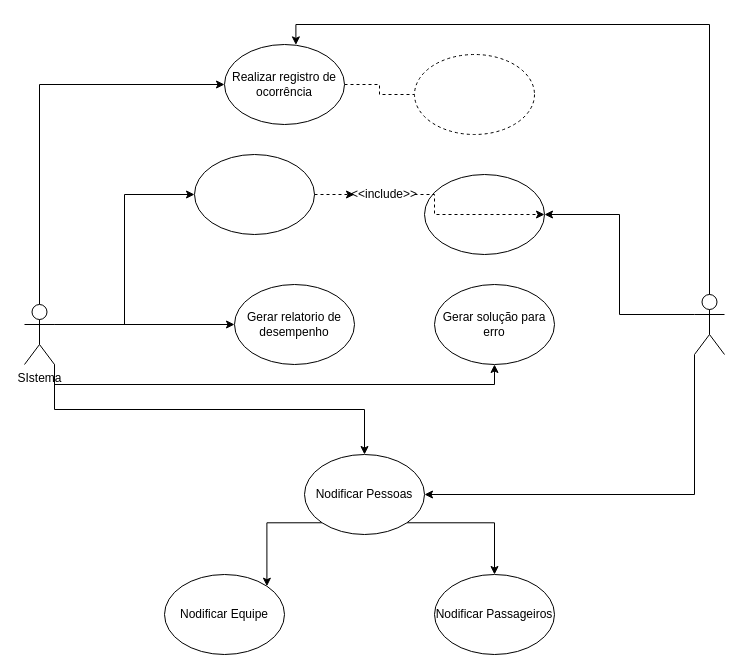
The diagram is 747 pixels wide and 672 high, and some of its shapes have lost their labels. The shapes that lost their labels are listed below. From the top down, each one's centre as x and y in pixels, then its label:
(474,94): Validar Ocorrência
(254,194): Manipular historico
(484,214): Visualizar histórico
(709,324): Usuário
